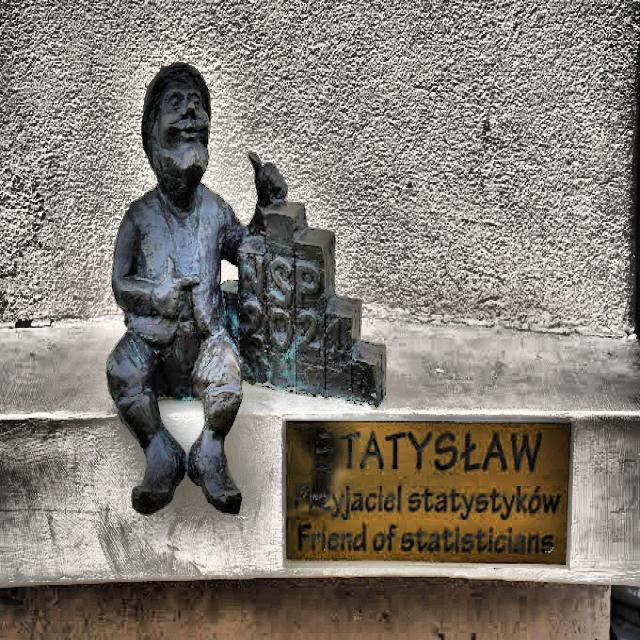Statyslaw: (108, 64, 385, 512)
